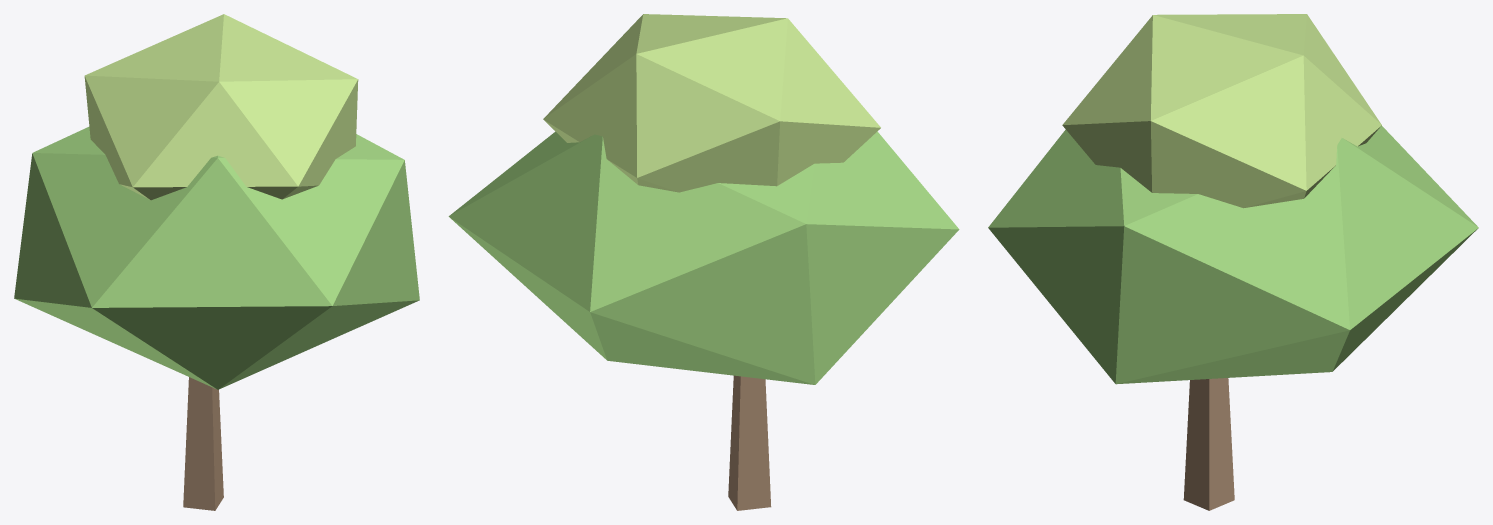
The model's file is laranjeira_2_lod.fbx.
The picture shows the model from 3 angles, left to right: view 1: azimuth 30°, elevation 25°; view 2: azimuth 150°, elevation 25°; view 3: azimuth 270°, elevation 25°; orthographic projection. The views are drawn at different scales.
Parts seen in each view (by area): view 1: laranjeira_2_lod~Copa@leaf, laranjeira_2_lod~Copa 0@leaflight, laranjeira_2_lod~Tronco@bark; view 2: laranjeira_2_lod~Copa@leaf, laranjeira_2_lod~Copa 0@leaflight, laranjeira_2_lod~Tronco@bark; view 3: laranjeira_2_lod~Copa@leaf, laranjeira_2_lod~Copa 0@leaflight, laranjeira_2_lod~Tronco@bark.
Part boxes in pixels (box(x1,y1,x2,y2)): laranjeira_2_lod~Copa@leaf: box(14, 127, 419, 389); laranjeira_2_lod~Copa 0@leaflight: box(84, 14, 358, 200); laranjeira_2_lod~Tronco@bark: box(183, 377, 223, 510); laranjeira_2_lod~Copa@leaf: box(448, 131, 959, 384); laranjeira_2_lod~Copa 0@leaflight: box(543, 14, 880, 192); laranjeira_2_lod~Tronco@bark: box(728, 375, 771, 510); laranjeira_2_lod~Copa@leaf: box(988, 126, 1478, 384); laranjeira_2_lod~Copa 0@leaflight: box(1062, 14, 1381, 208); laranjeira_2_lod~Tronco@bark: box(1183, 378, 1234, 510).
Size of the model in its own units: 4.25 by 4.77 by 4.42.
